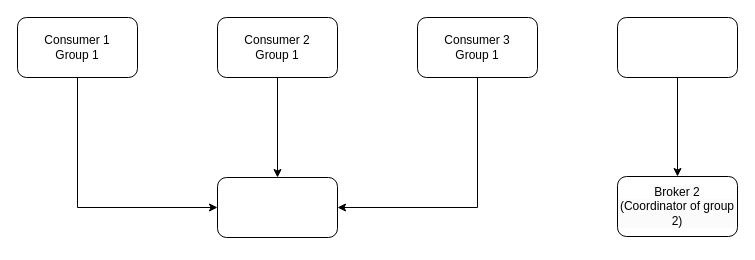
This 755x260 diagram has some shape labels left out. The shapes that lost their labels are listed below. From the top down, each one's centre as x and y in pixels, then its label:
point 677,47: Consumer 4 Group 1
point 277,207: Broker 1 (Coordinator of group 1)
